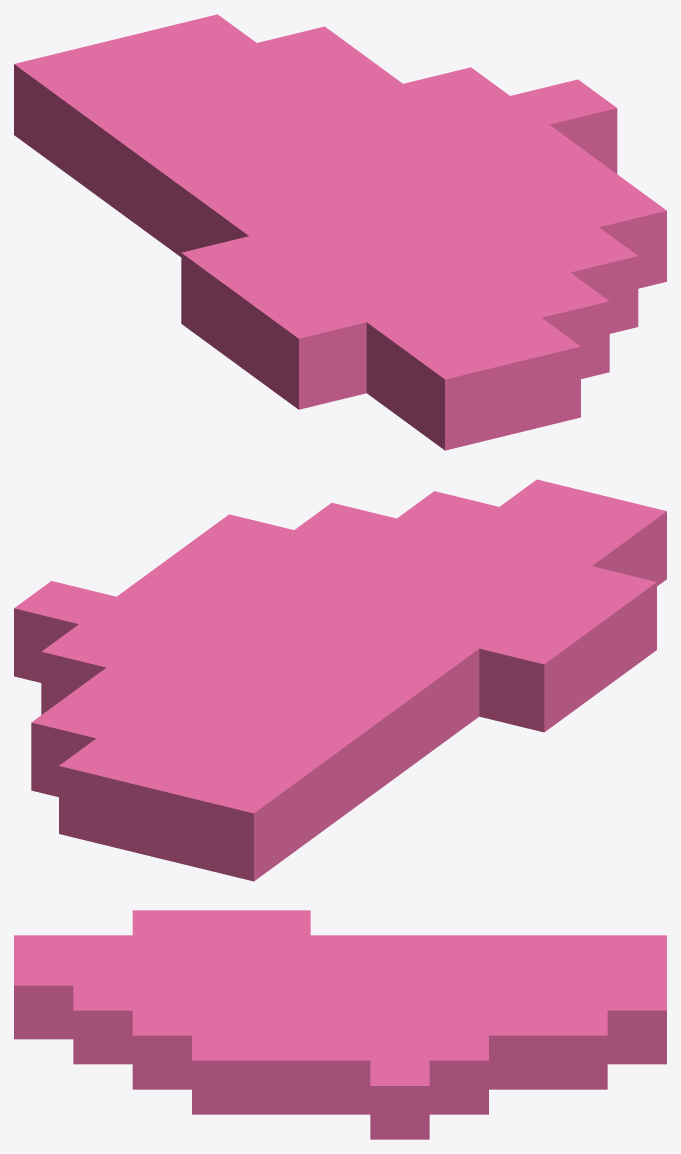
File: Perlis.fbx
3 renders of one model, top to bottom at view 1: azimuth 30°, elevation 25°; view 2: azimuth 150°, elevation 25°; view 3: azimuth 270°, elevation 25°, orthographic. The views are drawn at different scales.
Visible parts, largest first — view 1: Perlis; view 2: Perlis; view 3: Perlis.
Part boxes in pixels (left/top/right/bottom): Perlis: left=14, top=14, right=666, bottom=450; Perlis: left=14, top=479, right=666, bottom=881; Perlis: left=14, top=910, right=666, bottom=1139.
Size of the model in its own units: 7 by 1 by 11.
1 material, 1 textured.
